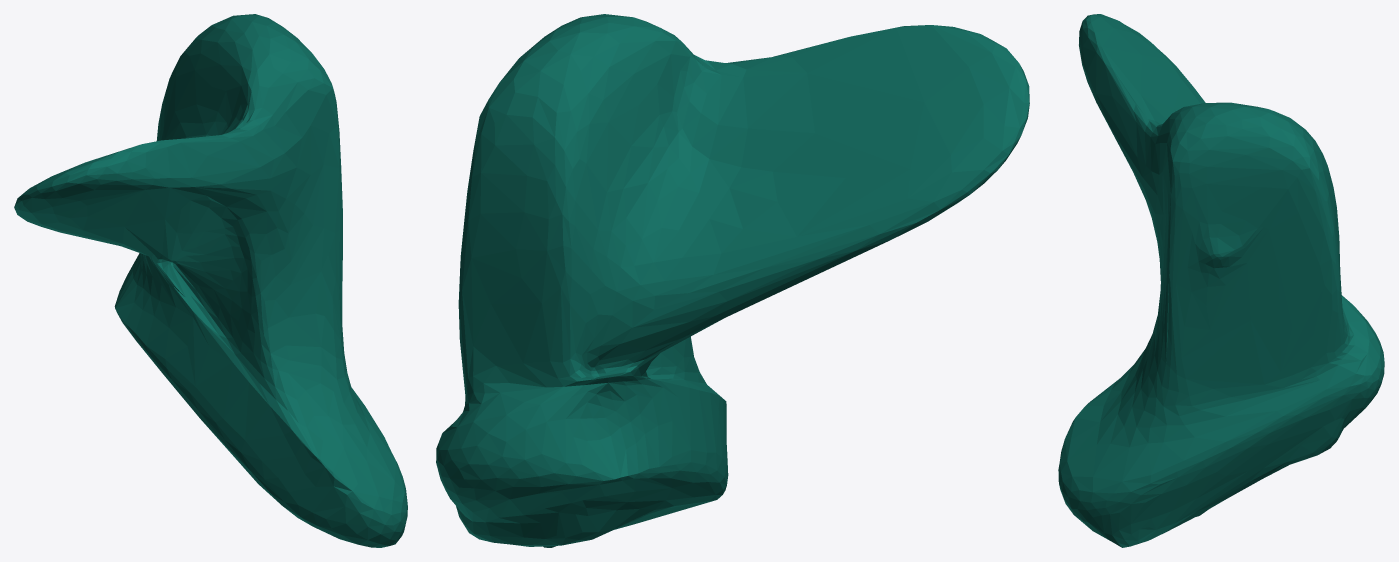
3 views of the same model, side by side, from view 1: azimuth 30°, elevation 25°; view 2: azimuth 150°, elevation 25°; view 3: azimuth 270°, elevation 25° (orthographic). The views are drawn at different scales.
Visible parts, largest first — view 1: 091_Cube.377; view 2: 091_Cube.377; view 3: 091_Cube.377.
Boxes of the visible parts, bbox=[...] form: 091_Cube.377: bbox=[14, 14, 407, 547]; 091_Cube.377: bbox=[436, 14, 1029, 547]; 091_Cube.377: bbox=[1058, 14, 1384, 547].
Bounding box in the file's own units: 11.75 × 14.4 × 10.34.
